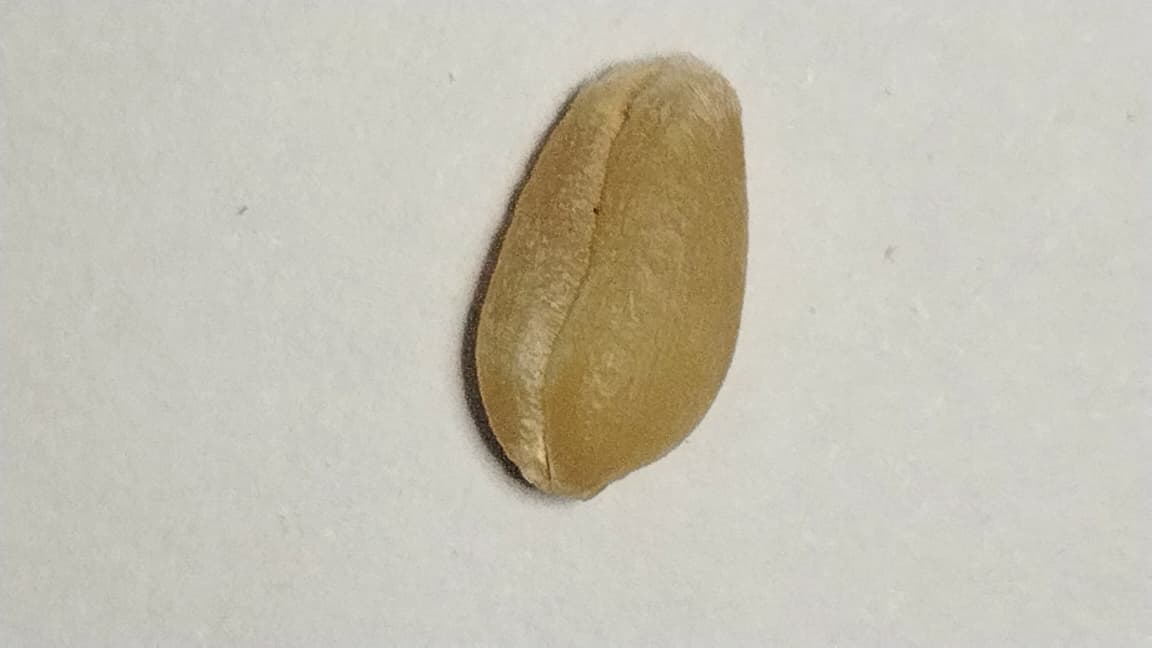healthy: (466, 53, 747, 498)
